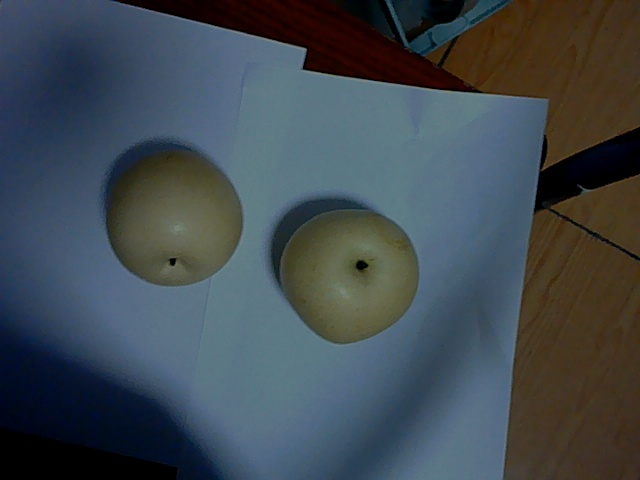pear: (282, 216, 422, 342), (109, 157, 245, 285)
